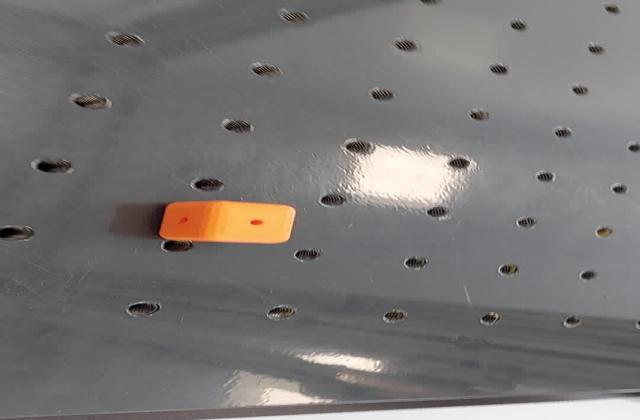cube: (150, 200, 300, 246)
